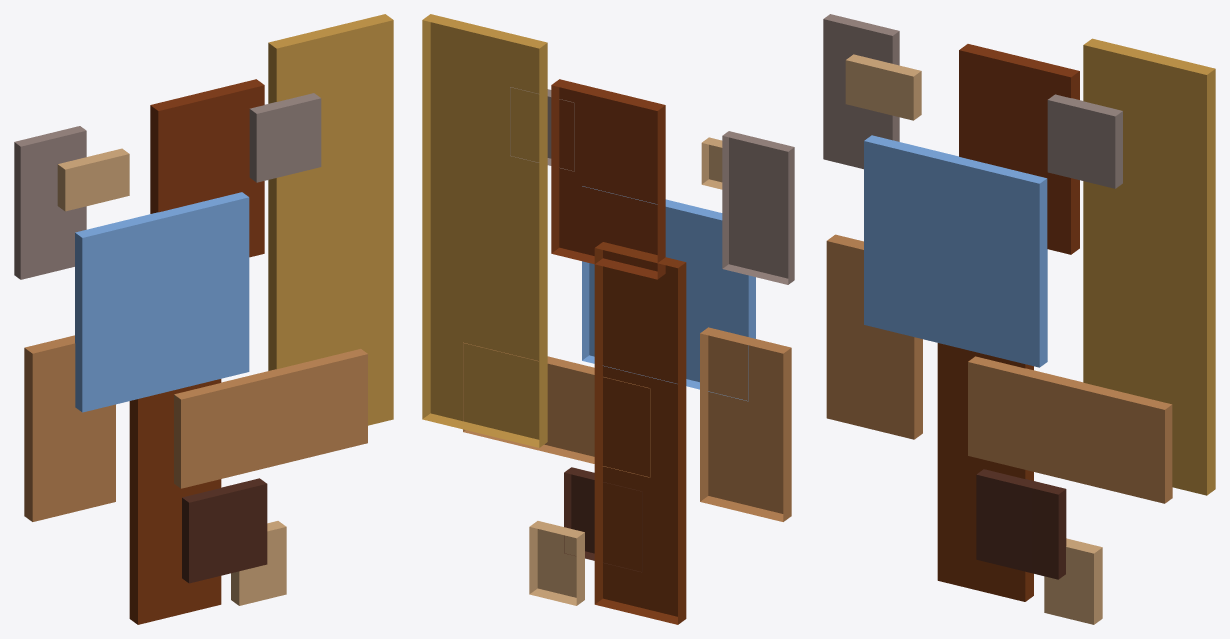
Rendered from SO_picture10.fbx.
The picture shows the model from 3 angles, left to right: view 1: azimuth 30°, elevation 25°; view 2: azimuth 150°, elevation 25°; view 3: azimuth 330°, elevation 25°; orthographic projection. The views are drawn at different scales.
Visible parts, largest first — view 1: SO_pictures10; view 2: SO_pictures10; view 3: SO_pictures10.
Part boxes in pixels (x1,y1,x2,y2): SO_pictures10: [14, 14, 393, 624]; SO_pictures10: [422, 14, 794, 624]; SO_pictures10: [823, 14, 1215, 624].
Bounding box in the file's own units: 65.17 × 92.64 × 5.55.
